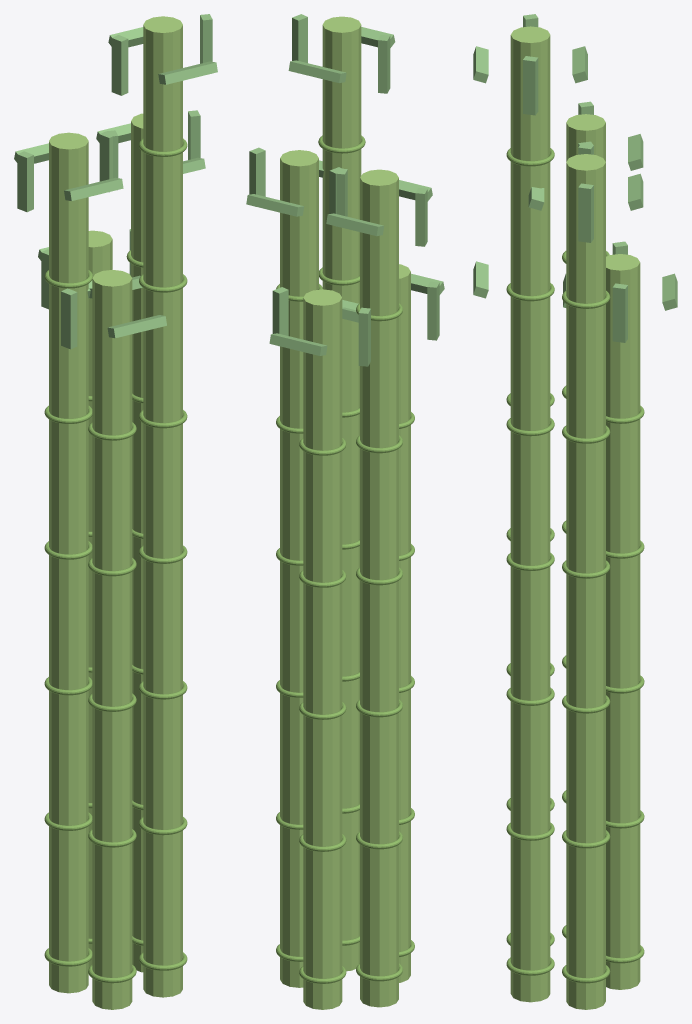
The model's file is bamboo_bundle.glb.
The picture shows the model from 3 angles, left to right: view 1: azimuth 30°, elevation 25°; view 2: azimuth 150°, elevation 25°; view 3: azimuth 270°, elevation 25°; orthographic projection. The views are drawn at different scales.
Parts seen in each view (by area): view 1: bamboo_bundle; view 2: bamboo_bundle; view 3: bamboo_bundle.
Part boxes in pixels (box(x1,y1,x2,y2)): bamboo_bundle: box(14, 14, 217, 1009); bamboo_bundle: box(246, 14, 444, 1009); bamboo_bundle: box(473, 14, 677, 1009).
Bounding box in the file's own units: 0.6258 × 3.2 × 0.6184.
